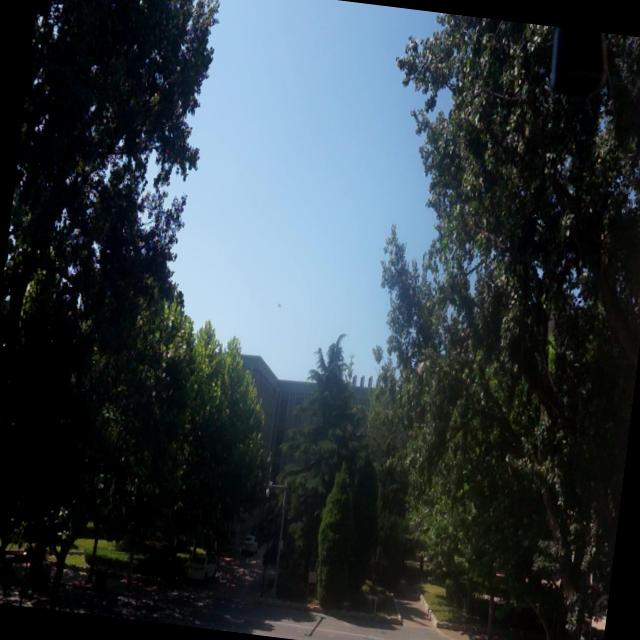drone: (272, 296, 286, 314)
